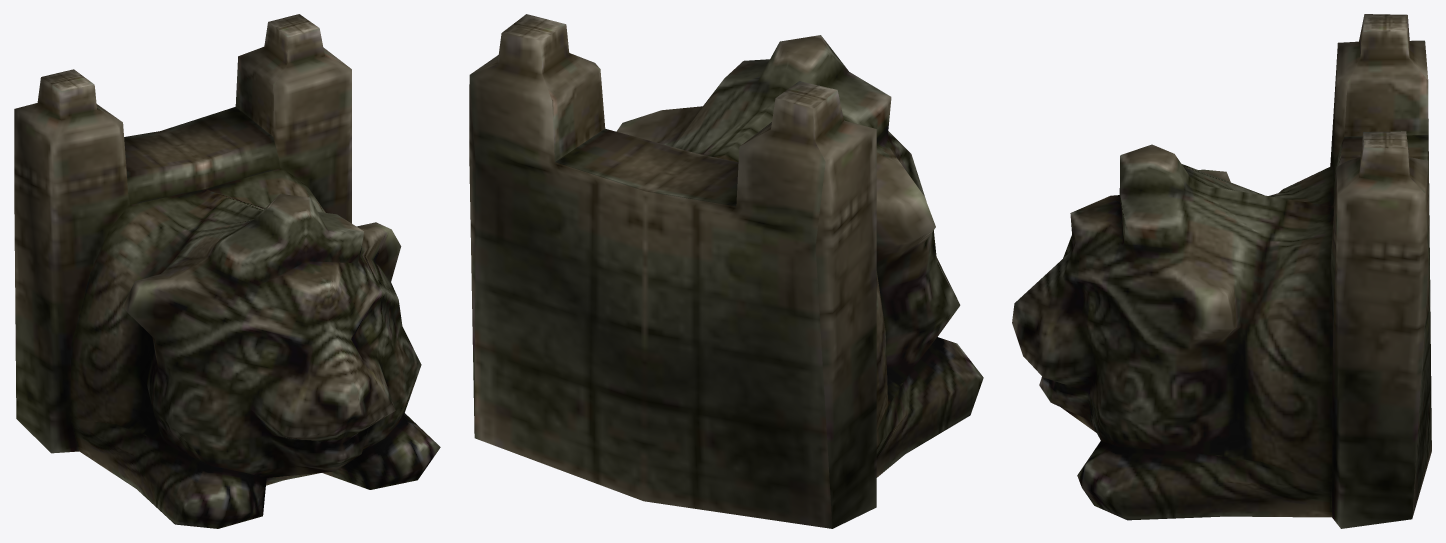
Rendered from Tjabo.fbx.
The picture shows the model from 3 angles, left to right: view 1: azimuth 30°, elevation 25°; view 2: azimuth 150°, elevation 25°; view 3: azimuth 270°, elevation 25°; orthographic projection. The views are drawn at different scales.
Visible parts, largest first — view 1: Tjabo; view 2: Tjabo; view 3: Tjabo.
Part boxes in pixels (x1,y1,x2,y2): Tjabo: (14,14,440,528); Tjabo: (469,14,983,528); Tjabo: (1012,14,1431,528).
Bounding box in the file's own units: 530 × 591 × 602.
Materials: 1 (1 with a texture image).
